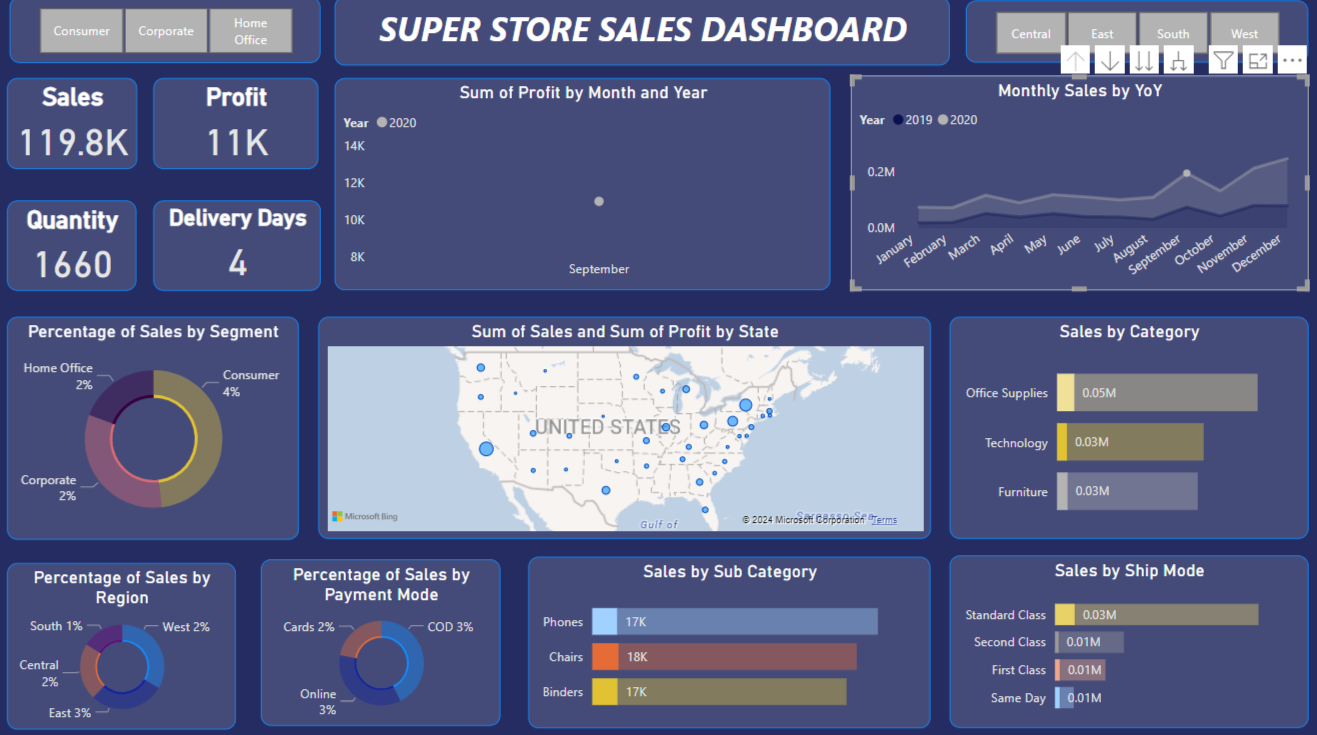

The page's visual inventory and layout, read from the dashboard file:
{"tool":"powerbi","page":{"name":"Page 1","canvas":[1280,720],"ordinal":0},"visuals":[{"type":"clusteredBarChart","title":"Sales by Category","fields":{"Category":["SuperStore_Sales_Dataset.Category"],"Y":["Sum(SuperStore_Sales_Dataset.Sales)"]},"box":[920.2,311.2,346.1,214.7],"z":0},{"type":"clusteredBarChart","title":"Sales by Sub Category","fields":{"Category":["SuperStore_Sales_Dataset.Sub-Category"],"Y":["Sum(SuperStore_Sales_Dataset.Sales)"]},"box":[513.8,542.7,388.3,165.2],"z":1000},{"type":"clusteredBarChart","title":"Sales by Ship Mode","fields":{"Category":["SuperStore_Sales_Dataset.Ship Mode"],"Y":["Sum(SuperStore_Sales_Dataset.Sales)"]},"box":[920,541.2,346.2,166.2],"z":2000},{"type":"stackedAreaChart","title":"Monthly Sales by YoY","fields":{"Y":["Sum(SuperStore_Sales_Dataset.Sales)"],"Category":["SuperStore_Sales_Dataset.Order Date.Variation.Date Hierarchy.Month","SuperStore_Sales_Dataset.Order Date.Variation.Date Hierarchy.Day"],"Series":["SuperStore_Sales_Dataset.Order Date.Variation.Date Hierarchy.Year"]},"box":[825,78.8,441.2,207.5],"z":3000},{"type":"stackedAreaChart","fields":{"Category":["SuperStore_Sales_Dataset.Order Date.Variation.Date Hierarchy.Month","SuperStore_Sales_Dataset.Order Date.Variation.Date Hierarchy.Day"],"Series":["SuperStore_Sales_Dataset.Order Date.Variation.Date Hierarchy.Year"],"Y":["Sum(SuperStore_Sales_Dataset.Profit)"]},"box":[326.2,81.2,478.8,205],"z":4000},{"type":"map","fields":{"Category":["SuperStore_Sales_Dataset.State"],"Size":["Sum(SuperStore_Sales_Dataset.Sales)"]},"box":[311.2,311.2,591,214.7],"z":5000},{"type":"donutChart","title":"Percentage of Sales by Segment","fields":{"Category":["SuperStore_Sales_Dataset.Segment"],"Y":["Sum(SuperStore_Sales_Dataset.Sales)"]},"box":[11.2,311.2,281.2,215],"z":6000},{"type":"donutChart","title":"Percentage of Sales by Payment Mode","fields":{"Category":["SuperStore_Sales_Dataset.Payment Mode"],"Y":["Sum(SuperStore_Sales_Dataset.Sales)"]},"box":[255.7,545.1,231.6,160.4],"z":7000},{"type":"slicer","fields":{"Values":["SuperStore_Sales_Dataset.Region"]},"box":[936.2,6.2,330,60],"z":8000},{"type":"textbox","box":[326.2,2.5,593.8,66.2],"z":9000},{"type":"card","title":"Sales","fields":{"Values":["Sum(SuperStore_Sales_Dataset.Sales)"]},"box":[11.2,81.2,125,87.5],"z":10000},{"type":"card","title":"Quantity","fields":{"Values":["Sum(SuperStore_Sales_Dataset.Quantity)"]},"box":[11.2,198.8,125,87.5],"z":11000},{"type":"card","title":"Profit","fields":{"Values":["Sum(SuperStore_Sales_Dataset.Profit)"]},"box":[161.2,81.2,152.5,87.5],"z":12000},{"type":"card","title":"Delivery Days","fields":{"Values":["Avg(SuperStore_Sales_Dataset.AvgDelievery)"]},"box":[162.5,198.8,151.2,87.5],"z":13000},{"type":"donutChart","title":"Percentage of Sales by Region","fields":{"Category":["SuperStore_Sales_Dataset.Region"],"Y":["Sum(SuperStore_Sales_Dataset.Sales)"]},"box":[10.9,548.7,220.7,160.4],"z":14000},{"type":"slicer","fields":{"Values":["SuperStore_Sales_Dataset.Segment"]},"box":[11.2,2.5,300,63.8],"z":15000}]}

Visuals, with their boxes in screenshot pixels (x1, y1, x2, y2), scaled from the page's 1280x720 canvas onto the 1317x735 screenshot:
"Sales by Category" clusteredBarChart: Rect(947, 318, 1303, 537)
"Sales by Sub Category" clusteredBarChart: Rect(529, 554, 928, 723)
"Sales by Ship Mode" clusteredBarChart: Rect(947, 552, 1303, 722)
"Monthly Sales by YoY" stackedAreaChart: Rect(849, 80, 1303, 292)
stackedAreaChart - SuperStore_Sales_Dataset.Order Date.Variation.Date Hierarchy.Month x SuperStore_Sales_Dataset.Order Date.Variation.Date Hierarchy.Day: Rect(336, 83, 828, 292)
map - SuperStore_Sales_Dataset.State x Sum(SuperStore_Sales_Dataset.Sales): Rect(320, 318, 928, 537)
"Percentage of Sales by Segment" donutChart: Rect(12, 318, 301, 537)
"Percentage of Sales by Payment Mode" donutChart: Rect(263, 556, 501, 720)
slicer - SuperStore_Sales_Dataset.Region: Rect(963, 6, 1303, 68)
textbox: Rect(336, 3, 947, 70)
"Sales" card: Rect(12, 83, 140, 172)
"Quantity" card: Rect(12, 203, 140, 292)
"Profit" card: Rect(166, 83, 323, 172)
"Delivery Days" card: Rect(167, 203, 323, 292)
"Percentage of Sales by Region" donutChart: Rect(11, 560, 238, 724)
slicer - SuperStore_Sales_Dataset.Segment: Rect(12, 3, 320, 68)
